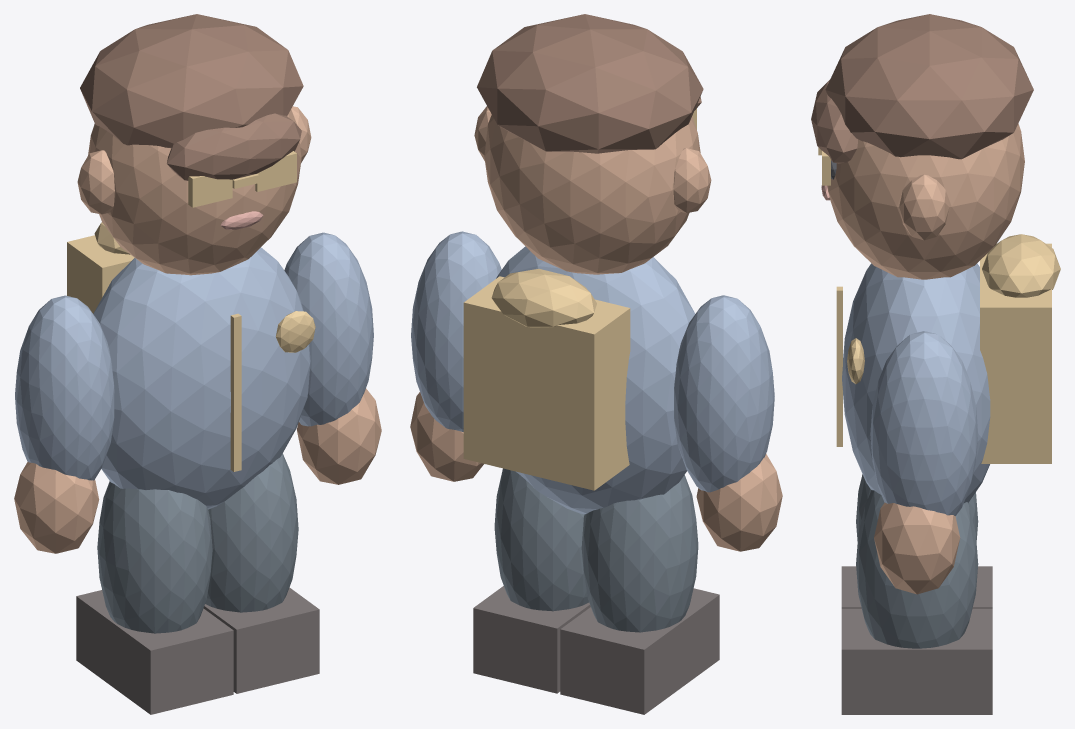
The model's file is witness_04.glb.
3 views of the same model, side by side, from view 1: azimuth 30°, elevation 25°; view 2: azimuth 150°, elevation 25°; view 3: azimuth 270°, elevation 25° (orthographic).
Parts seen in each view (by area): view 1: torso, hair_cap, head, left_upper_arm, left_leg, left_boot, right_upper_arm, right_leg, right_boot, hair_fringe, left_hand, right_hand (+6 smaller); view 2: backpack, hair_cap, head, torso, left_upper_arm, left_leg, left_boot, right_upper_arm, right_leg, right_boot, left_hand, backpack_roll (+2 smaller); view 3: hair_cap, head, right_upper_arm, torso, right_boot, backpack, right_leg, right_hand, backpack_roll, right_ear, hair_fringe, left_boot (+3 smaller).
Boxes of the visible parts, left/top/right/bottom form: torso: left=93, top=247, right=310, bottom=509; hair_cap: left=80, top=14, right=303, bottom=148; head: left=88, top=109, right=301, bottom=275; left_upper_arm: left=15, top=295, right=114, bottom=480; left_leg: left=97, top=481, right=212, bottom=633; left_boot: left=76, top=590, right=233, bottom=714; right_upper_arm: left=284, top=232, right=373, bottom=426; right_leg: left=205, top=453, right=298, bottom=612; right_boot: left=203, top=587, right=319, bottom=693; hair_fringe: left=167, top=113, right=301, bottom=180; left_hand: left=14, top=462, right=99, bottom=553; right_hand: left=296, top=388, right=381, bottom=484; backpack: left=463, top=276, right=630, bottom=490; hair_cap: left=477, top=14, right=703, bottom=153; head: left=484, top=115, right=700, bottom=274; torso: left=496, top=246, right=695, bottom=514; left_upper_arm: left=674, top=295, right=774, bottom=492; left_leg: left=581, top=475, right=698, bottom=632; left_boot: left=560, top=588, right=719, bottom=714; right_upper_arm: left=411, top=231, right=501, bottom=431; right_leg: left=494, top=468, right=588, bottom=611; right_boot: left=473, top=586, right=590, bottom=693; left_hand: left=696, top=454, right=782, bottom=551; backpack_roll: left=491, top=268, right=596, bottom=327; hair_cap: left=825, top=14, right=1033, bottom=159; head: left=827, top=123, right=1024, bottom=279; right_upper_arm: left=870, top=331, right=978, bottom=515; torso: left=842, top=263, right=990, bottom=502; right_boot: left=841, top=608, right=992, bottom=714; backpack: left=980, top=243, right=1051, bottom=463; right_leg: left=856, top=490, right=978, bottom=648; right_hand: left=874, top=502, right=960, bottom=594; backpack_roll: left=982, top=234, right=1060, bottom=297; right_ear: left=899, top=174, right=949, bottom=240; hair_fringe: left=811, top=80, right=857, bottom=163; left_boot: left=841, top=566, right=992, bottom=608.
Size of the model in its own units: 1.16 by 1.97 by 0.695.
